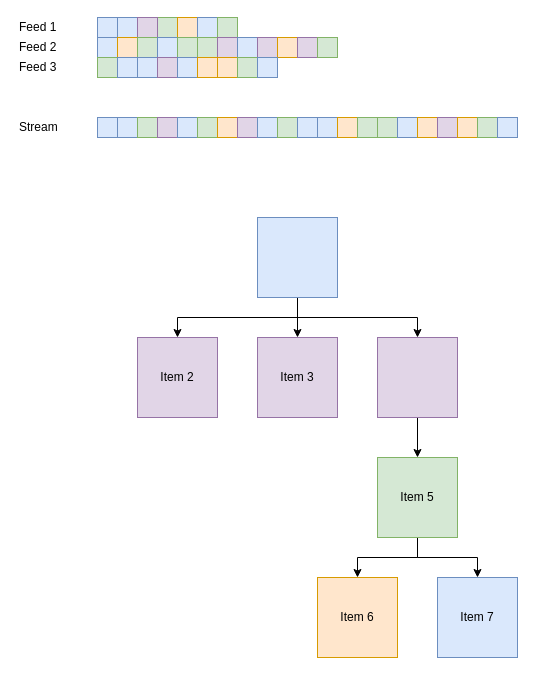
This 535x675 diagram has some shape labels left out. The centre of each missing label's shape, as x and y in pixels:
Item 1: (x=297, y=257)
Item 4: (x=417, y=377)
